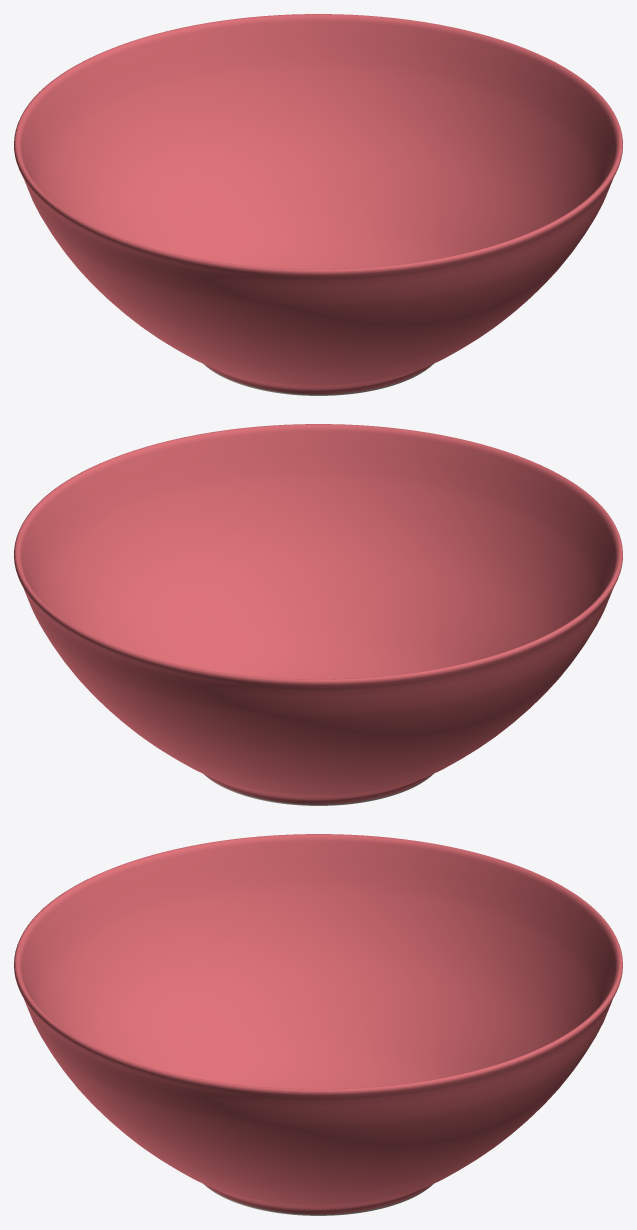
The model's file is rose-bowl.glb.
The picture shows the model from 3 angles, top to bottom: view 1: azimuth 30°, elevation 25°; view 2: azimuth 150°, elevation 25°; view 3: azimuth 270°, elevation 25°; orthographic projection.
Visible parts, largest first — view 1: rose-bowl; view 2: rose-bowl; view 3: rose-bowl.
Part boxes in pixels (left/top/right/bottom): rose-bowl: left=14, top=14, right=622, bottom=395; rose-bowl: left=14, top=424, right=622, bottom=805; rose-bowl: left=14, top=834, right=622, bottom=1215.
Bounding box in the file's own units: 0.2103 × 0.0771 × 0.2103.
1 material, 1 textured.
